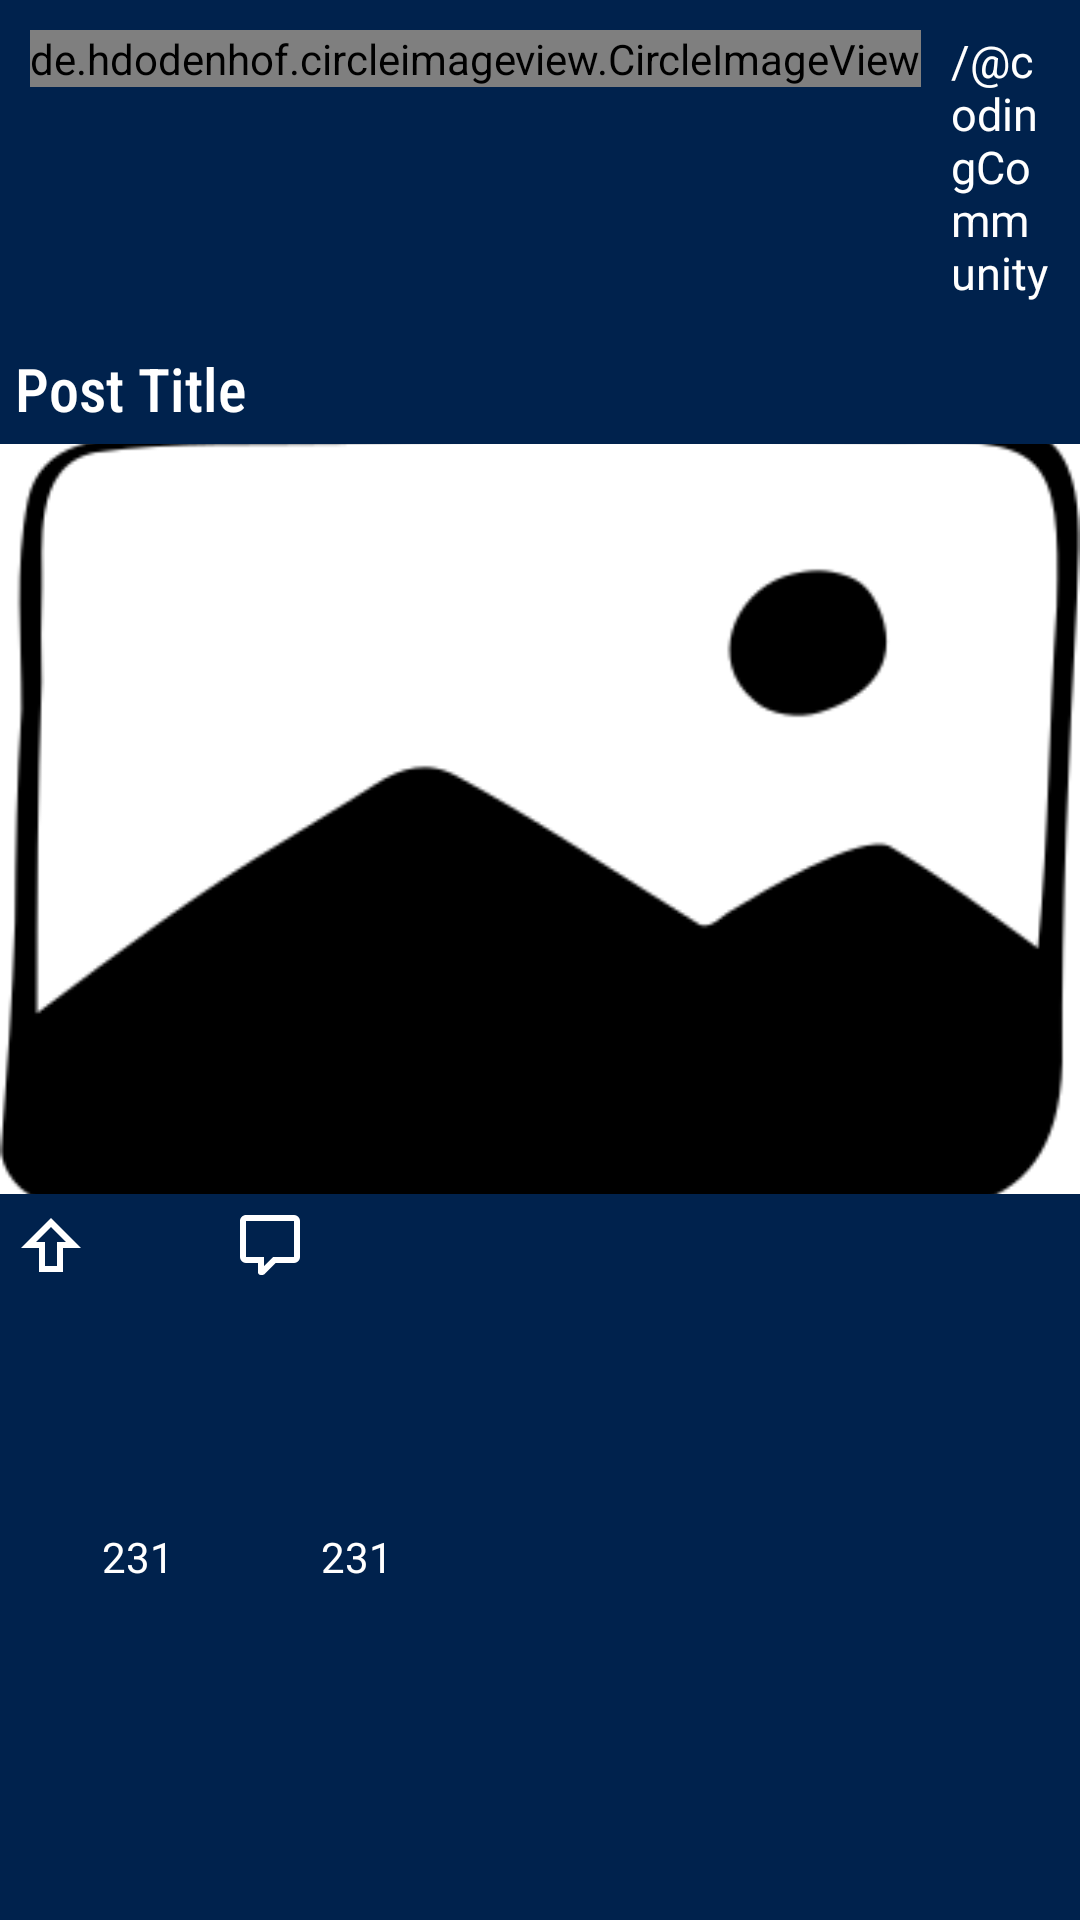

Icons on this 1080px x 1920px Android screen, each with the point to tap as [x,y]:
comment: [270,1245]
up vote: [51,1245]
